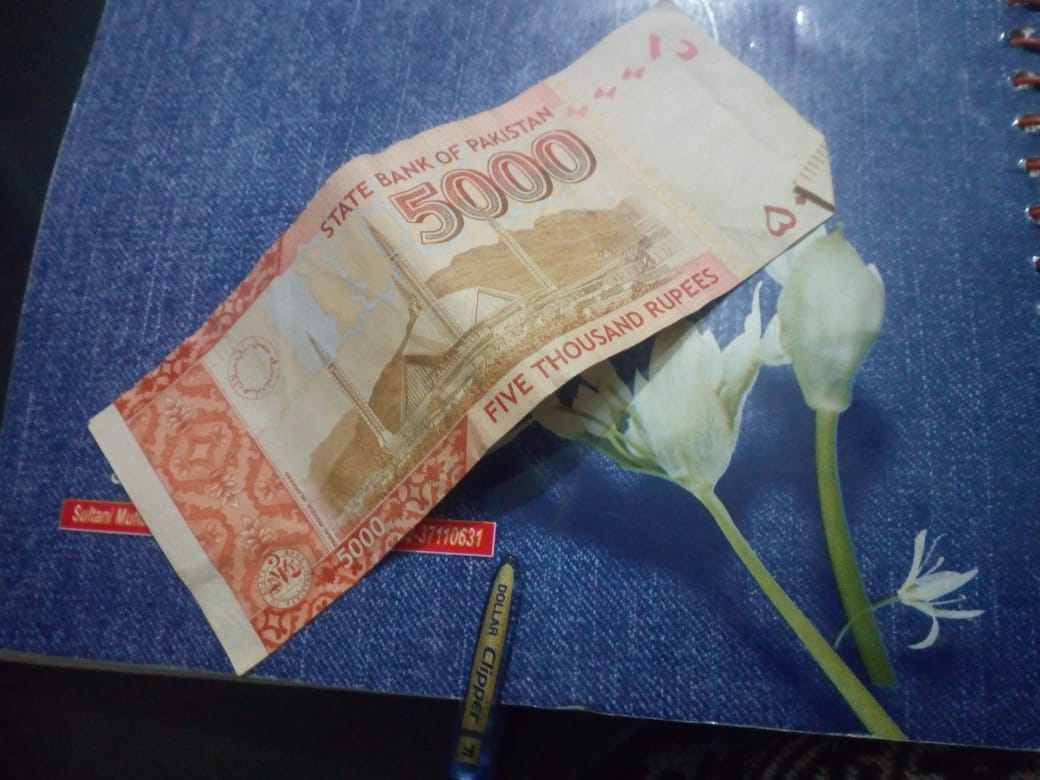5000 rupee: (65, 8, 864, 636)
